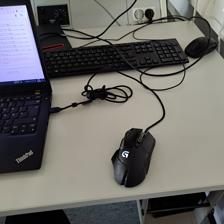mouse: (109, 127, 156, 189)
